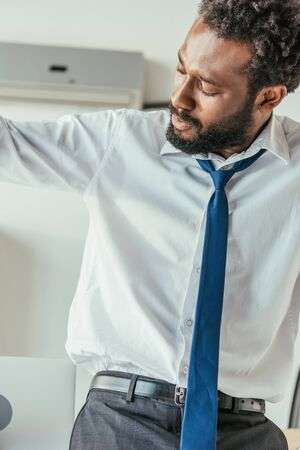F_shirt: (5, 109, 300, 399)
F_tie: (185, 152, 238, 448)
